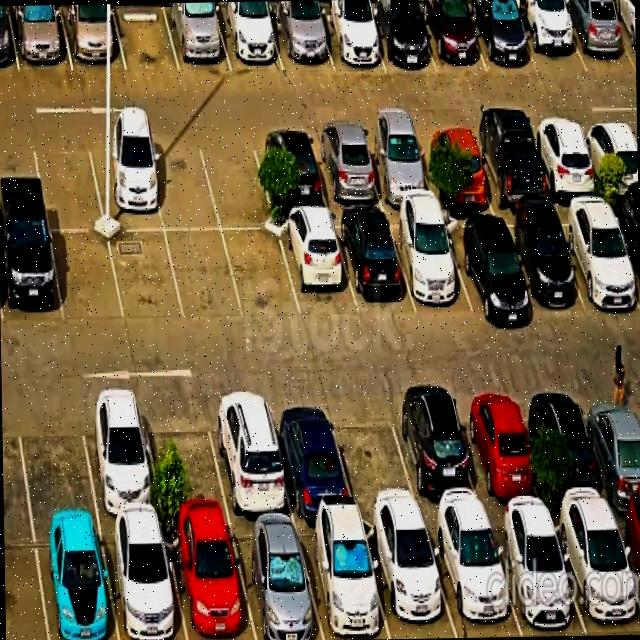empty: (328, 393, 421, 516), (141, 394, 230, 521), (14, 395, 97, 523), (197, 132, 275, 230), (146, 135, 220, 230), (31, 135, 105, 229), (165, 231, 243, 320), (108, 231, 184, 322), (50, 231, 124, 323), (222, 231, 300, 318), (112, 3, 179, 71)
occupied: (387, 390, 486, 517), (488, 515, 586, 637), (425, 516, 522, 638), (453, 388, 545, 514), (295, 519, 390, 640), (205, 390, 294, 519), (228, 522, 324, 640), (362, 519, 456, 639), (550, 510, 640, 635), (163, 521, 255, 640), (266, 394, 355, 517), (526, 386, 612, 512), (78, 394, 163, 520), (100, 522, 186, 640), (33, 523, 117, 640), (553, 204, 640, 307), (494, 211, 583, 311), (441, 213, 529, 313), (386, 213, 472, 312), (276, 214, 357, 318), (332, 213, 415, 313), (579, 386, 640, 509), (86, 135, 164, 230), (469, 125, 550, 206), (252, 131, 329, 212), (0, 227, 63, 325), (415, 127, 492, 204), (308, 130, 384, 208), (359, 129, 435, 205), (510, 0, 587, 75), (528, 122, 602, 199), (557, 0, 636, 72), (466, 0, 537, 72), (417, 0, 487, 73), (365, 2, 436, 71), (213, 3, 284, 71), (163, 3, 231, 72), (59, 4, 126, 71), (315, 6, 385, 70), (579, 121, 638, 196), (8, 5, 72, 72), (268, 6, 333, 70), (608, 203, 640, 296), (612, 508, 640, 602), (607, 0, 636, 68)
